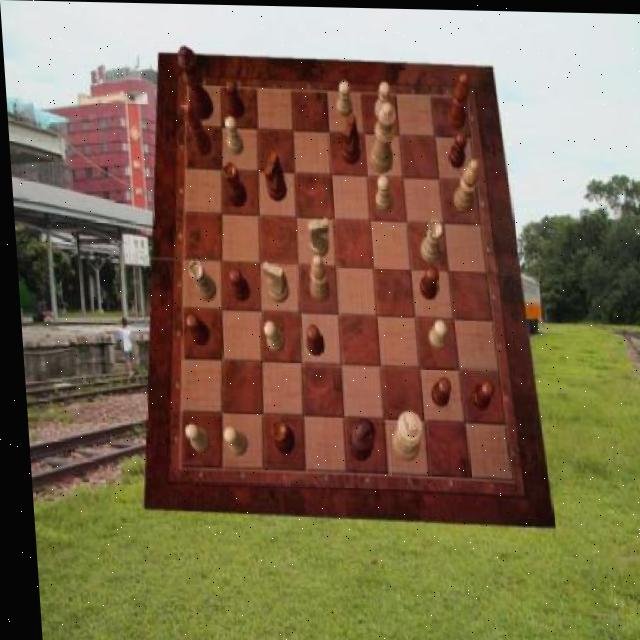bishop: (443, 71, 470, 129), (182, 100, 209, 155)
black-bishop: (342, 416, 373, 459)
black-king: (260, 149, 285, 200), (339, 112, 360, 165)
black-knight: (446, 129, 468, 167), (222, 79, 243, 118), (465, 377, 491, 408), (181, 314, 205, 347), (225, 267, 247, 301), (415, 264, 437, 298), (425, 375, 448, 406), (303, 323, 321, 356)
black-pawn: (176, 45, 213, 120)
black-queen: (221, 160, 246, 206), (266, 417, 291, 453)
black-rook: (450, 158, 480, 211), (306, 255, 328, 301)
white-bishop: (384, 409, 419, 461)
white-king: (260, 261, 286, 303), (305, 216, 328, 256)
white-knight: (179, 423, 205, 454), (371, 80, 390, 121), (223, 115, 242, 155), (218, 426, 243, 456), (372, 174, 391, 211), (260, 321, 281, 354), (333, 78, 351, 116), (423, 318, 443, 349)
white-pawn: (363, 100, 397, 173)
white-queen: (184, 260, 213, 302), (416, 218, 441, 262)
